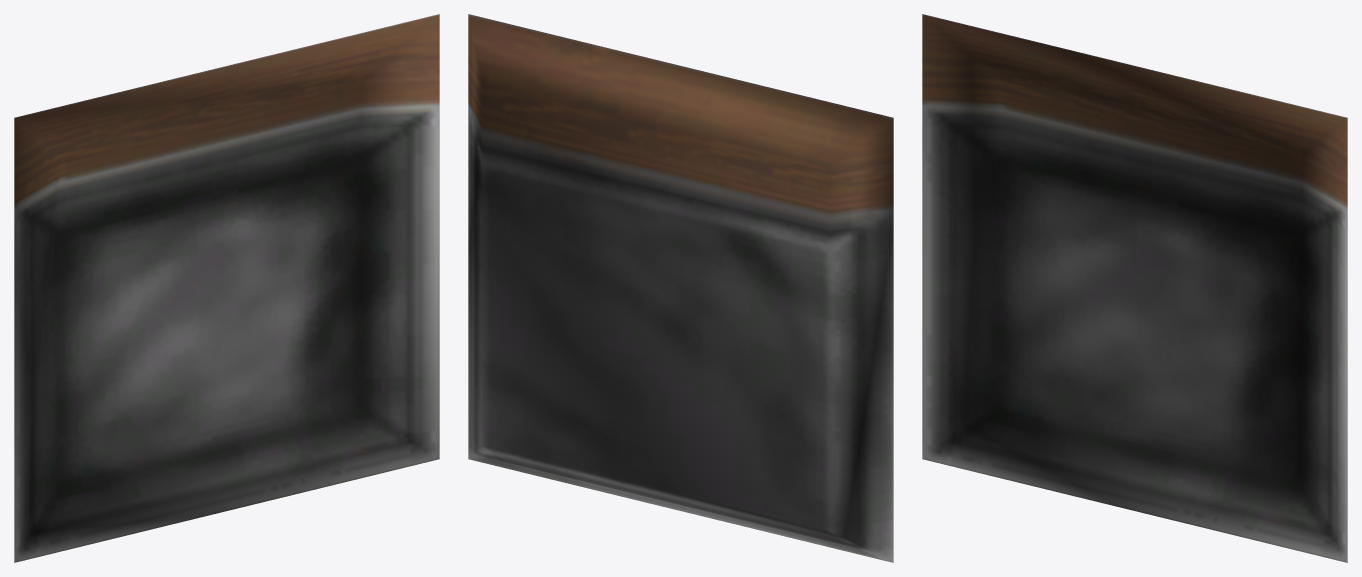
The model's file is INST_SWORDLIGHT_TRAY14MNT.fbx.
The picture shows the model from 3 angles, left to right: view 1: azimuth 30°, elevation 25°; view 2: azimuth 150°, elevation 25°; view 3: azimuth 330°, elevation 25°; orthographic projection.
Parts seen in each view (by area): view 1: INST_SWORDLIGHT_TRAY14MNT; view 2: INST_SWORDLIGHT_TRAY14MNT; view 3: INST_SWORDLIGHT_TRAY14MNT.
Boxes of the visible parts, x1,y1,x2,y2 form: INST_SWORDLIGHT_TRAY14MNT: [14, 14, 439, 562]; INST_SWORDLIGHT_TRAY14MNT: [468, 14, 893, 562]; INST_SWORDLIGHT_TRAY14MNT: [922, 14, 1347, 562].
Bounding box in the file's own units: 14998 × 15001 × 1483.
Materials: 1 (1 with a texture image).
